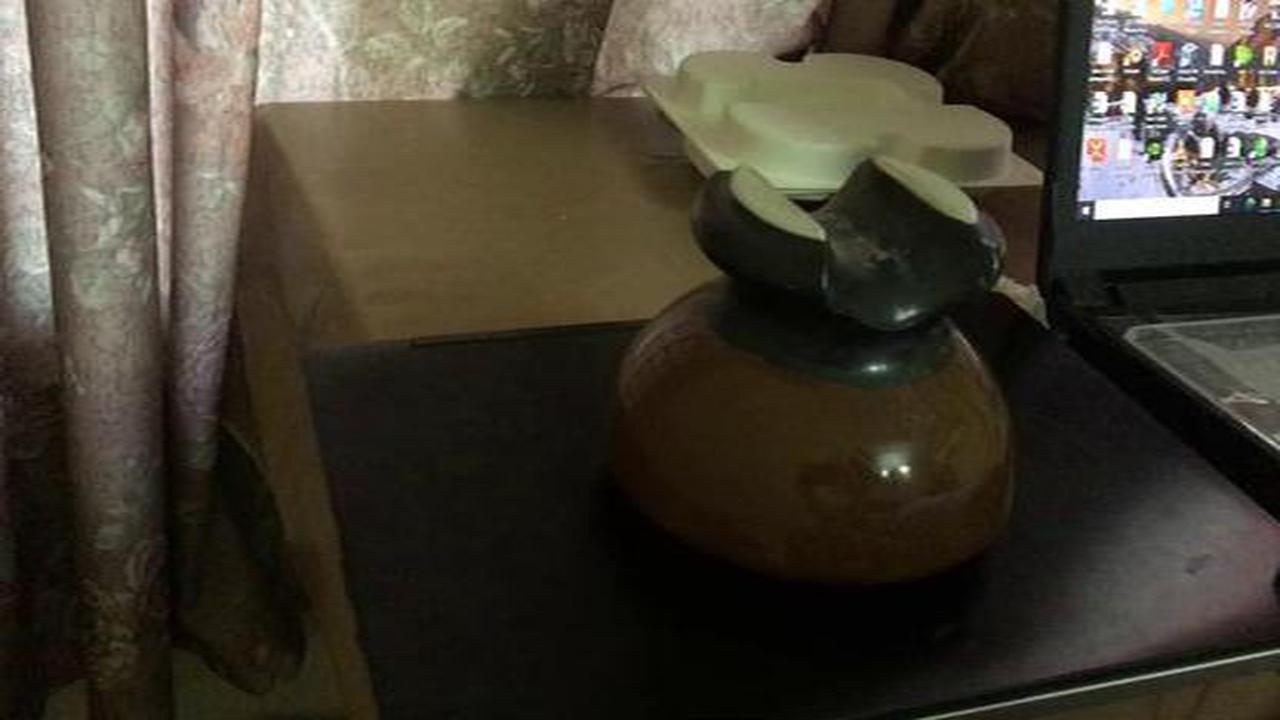insulator_pin: (594, 146, 1047, 598)
